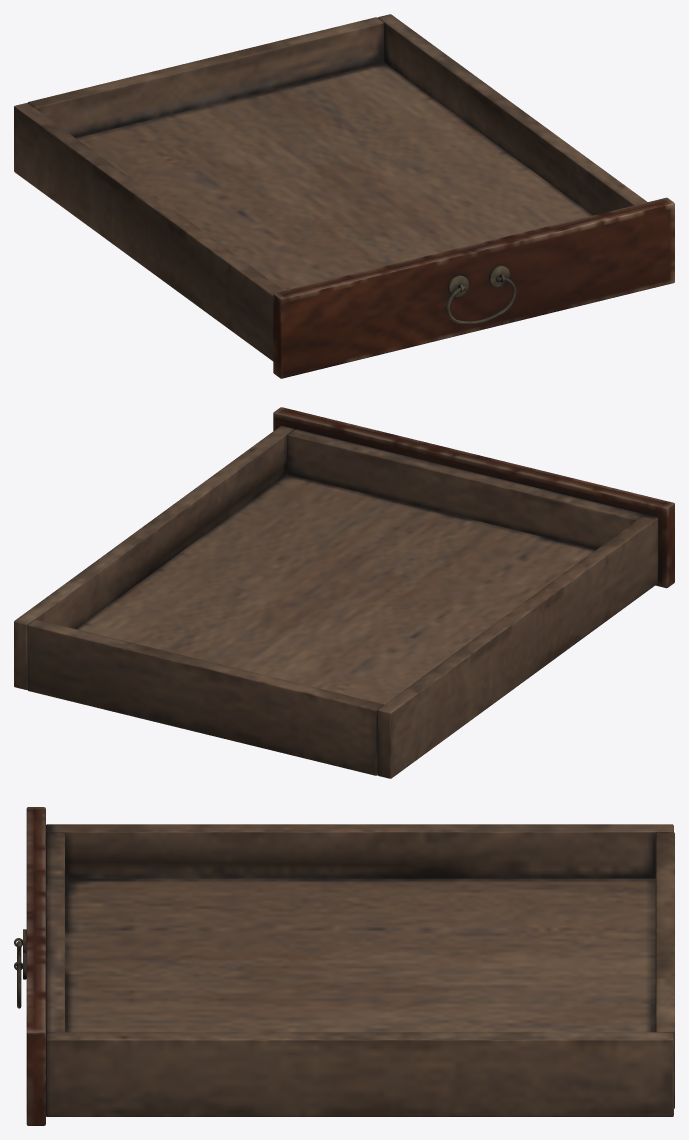
File: SM_Cabinet240_drawerTL.fbx
3 renders of one model, top to bottom at view 1: azimuth 30°, elevation 25°; view 2: azimuth 150°, elevation 25°; view 3: azimuth 270°, elevation 25°, orthographic. The views are drawn at different scales.
Parts seen in each view (by area): view 1: SM_Cabinet240_drawerTL; view 2: SM_Cabinet240_drawerTL; view 3: SM_Cabinet240_drawerTL.
Boxes of the visible parts, bbox=[...] form: SM_Cabinet240_drawerTL: bbox=[14, 14, 674, 378]; SM_Cabinet240_drawerTL: bbox=[14, 407, 674, 778]; SM_Cabinet240_drawerTL: bbox=[14, 807, 674, 1125].
Size of the model in its own units: 25.69 by 4.99 by 31.79.
1 material, 1 textured.
